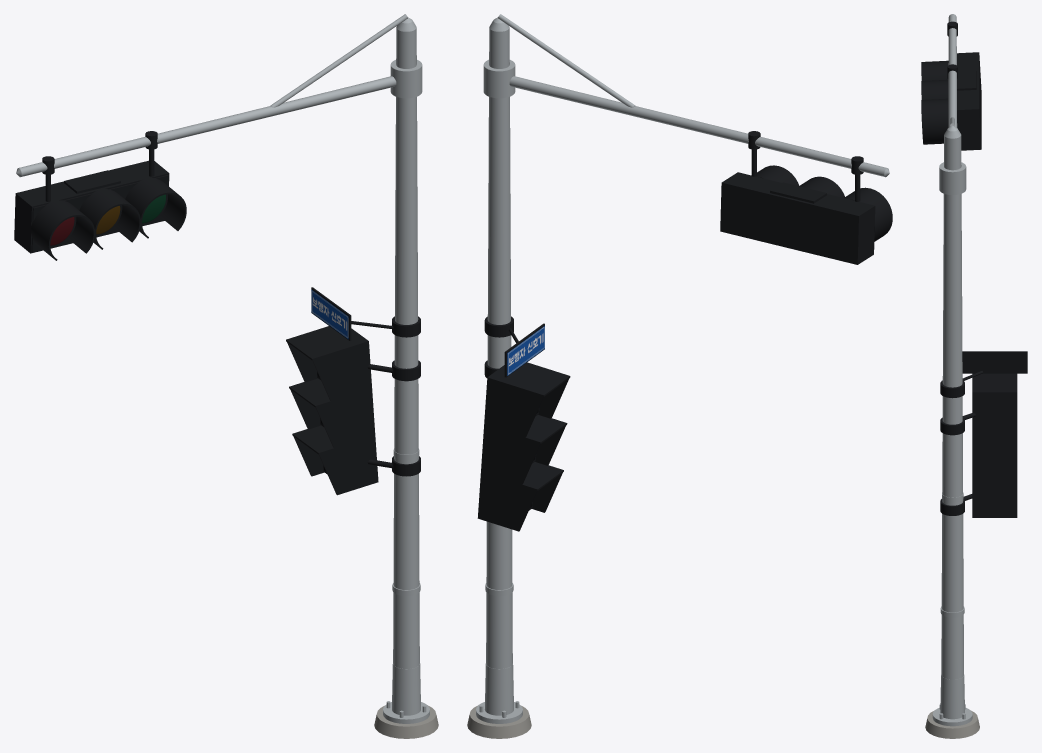
The model's file is village_signals.glb.
3 renders of one model, left to right at view 1: azimuth 30°, elevation 25°; view 2: azimuth 150°, elevation 25°; view 3: azimuth 270°, elevation 25°, orthographic. The views are drawn at different scales.
Parts seen in each view (by area): view 1: sig_black, sig_zinc, sig_concrete, sig_plate; view 2: sig_black, sig_zinc, sig_concrete, sig_plate; view 3: sig_black, sig_zinc, sig_concrete.
Part boxes in pixels (x1,y1,x2,y2): sig_black: [14, 131, 420, 495]; sig_zinc: [16, 14, 429, 723]; sig_concrete: [374, 705, 438, 738]; sig_plate: [311, 289, 348, 339]; sig_black: [477, 131, 892, 531]; sig_zinc: [476, 14, 889, 723]; sig_concrete: [467, 705, 531, 738]; sig_plate: [507, 326, 544, 375]; sig_black: [921, 21, 1027, 517]; sig_zinc: [932, 14, 972, 726]; sig_concrete: [925, 710, 979, 738].
Size of the model in its own units: 3.89 by 6.32 by 1.01.
Materials: 11 (1 with a texture image).
